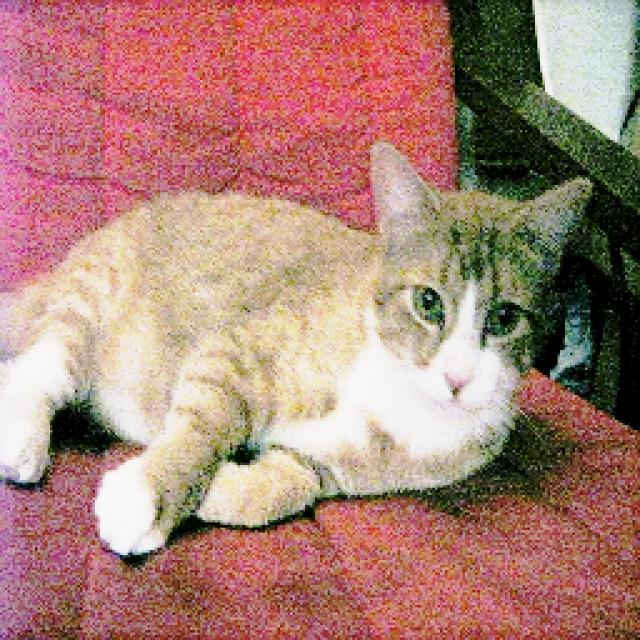cat: (0, 110, 605, 598)
